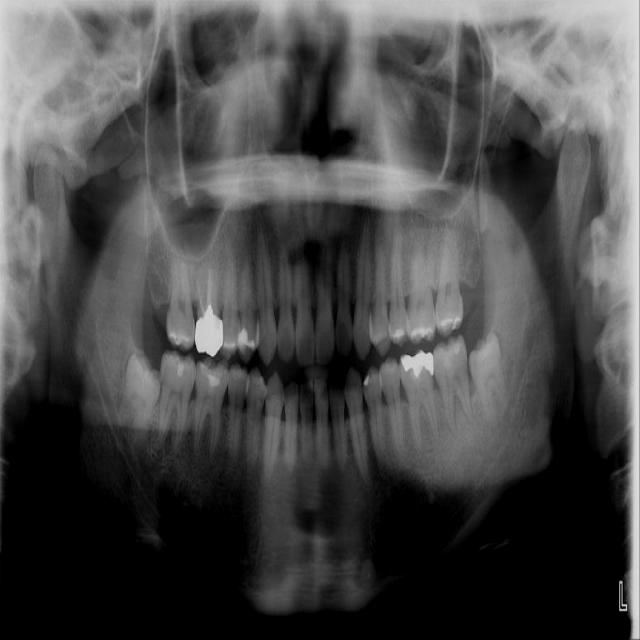Filling: (195, 313, 223, 356), (237, 319, 258, 365), (400, 350, 435, 377), (433, 339, 464, 367), (199, 361, 228, 389), (162, 351, 192, 376), (248, 368, 268, 396), (409, 326, 433, 344), (439, 316, 463, 330), (169, 332, 188, 345), (390, 328, 406, 342), (362, 371, 379, 384), (222, 339, 235, 353)
Root Canal Treatment: (197, 277, 205, 315), (205, 267, 211, 315)
impacted tooth: (115, 355, 159, 456), (468, 330, 509, 424)
